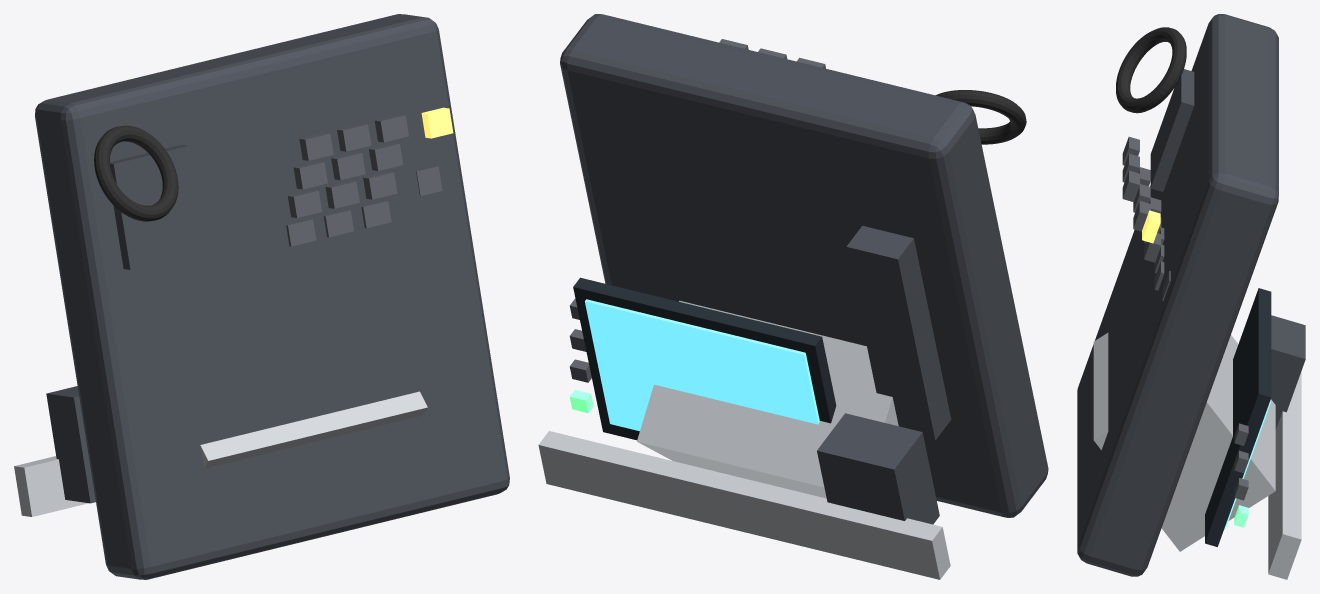
File: voip.glb
3 views of the same model, side by side, from view 1: azimuth 30°, elevation 25°; view 2: azimuth 150°, elevation 25°; view 3: azimuth 270°, elevation 25° (orthographic). The views are drawn at different scales.
Visible parts, largest first — view 1: VoIP_BaseChassis, VoIP_HandsetMic, VoIP_DeskStand, VoIP_CoiledCord, VoIP_HandsetEar, VoIP_TopSilverTrim, VoIP_MsgBtn, VoIP_Key_3_2, VoIP_Key_1_2, VoIP_Key_2_0, VoIP_Key_2_1, VoIP_Key_3_1 (+7 smaller); view 2: VoIP_BaseChassis, VoIP_TopSilverTrim, VoIP_ActiveLCD, VoIP_DeskStand, VoIP_HandsetBar, VoIP_HandsetEar, VoIP_ScreenBezel, VoIP_CoiledCord; view 3: VoIP_BaseChassis, VoIP_DeskStand, VoIP_ScreenBezel, VoIP_TopSilverTrim, VoIP_CoiledCord, VoIP_HandsetEar, VoIP_HandsetMic, VoIP_MsgBtn, VoIP_Key_3_2, VoIP_Key_2_2, VoIP_Key_1_2, VoIP_Key_3_0 (+1 smaller).
Part boxes in pixels (x1,y1,x2,y2): VoIP_BaseChassis: (35, 14, 509, 579); VoIP_HandsetMic: (110, 144, 205, 269); VoIP_DeskStand: (200, 391, 427, 468); VoIP_CoiledCord: (94, 125, 178, 221); VoIP_HandsetEar: (46, 386, 95, 503); VoIP_TopSilverTrim: (14, 456, 87, 516); VoIP_MsgBtn: (421, 107, 453, 138); VoIP_Key_3_2: (374, 114, 408, 142); VoIP_Key_1_2: (363, 171, 397, 199); VoIP_Key_2_0: (293, 161, 327, 189); VoIP_Key_2_1: (331, 152, 365, 180); VoIP_Key_3_1: (337, 123, 371, 151); VoIP_BaseChassis: (560, 14, 1048, 517); VoIP_TopSilverTrim: (538, 431, 950, 579); VoIP_ActiveLCD: (585, 299, 819, 431); VoIP_DeskStand: (637, 300, 898, 498); VoIP_HandsetBar: (846, 226, 951, 440); VoIP_HandsetEar: (817, 413, 939, 524); VoIP_ScreenBezel: (573, 277, 836, 440); VoIP_CoiledCord: (935, 90, 1026, 144); VoIP_BaseChassis: (1077, 14, 1278, 576); VoIP_DeskStand: (1093, 332, 1275, 551); VoIP_ScreenBezel: (1205, 288, 1271, 546); VoIP_TopSilverTrim: (1268, 371, 1301, 579); VoIP_CoiledCord: (1116, 27, 1186, 113); VoIP_HandsetEar: (1271, 315, 1305, 429); VoIP_HandsetMic: (1150, 69, 1194, 191); VoIP_MsgBtn: (1142, 210, 1160, 243); VoIP_Key_3_2: (1122, 170, 1139, 201); VoIP_Key_2_2: (1133, 200, 1150, 231); VoIP_Key_1_2: (1144, 233, 1161, 262); VoIP_Key_3_0: (1122, 136, 1139, 165).
Size of the model in its own units: 1.23 by 1.35 by 0.6844.
